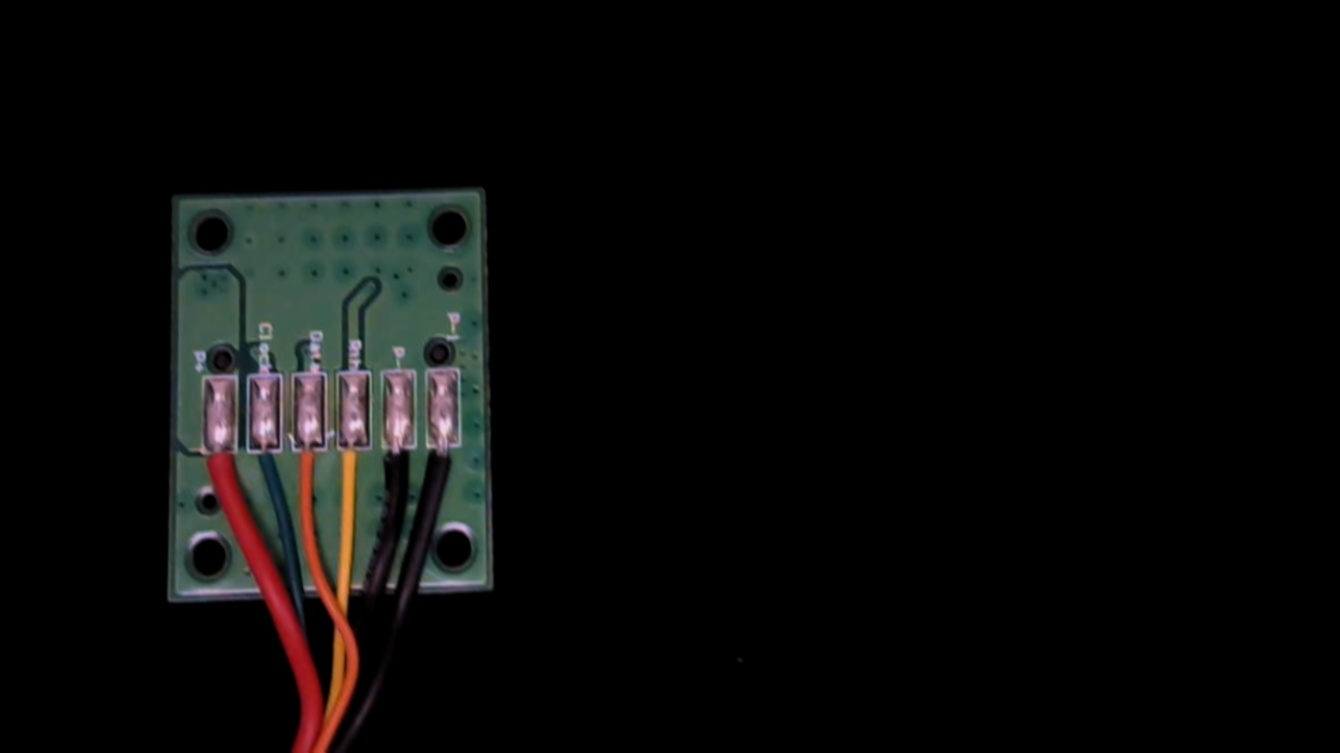Black: (381, 433, 415, 505)
Black1: (425, 430, 460, 504)
Green: (243, 435, 281, 504)
Orange: (292, 434, 323, 507)
Red: (198, 435, 236, 510)
Yellow: (334, 434, 371, 511)
